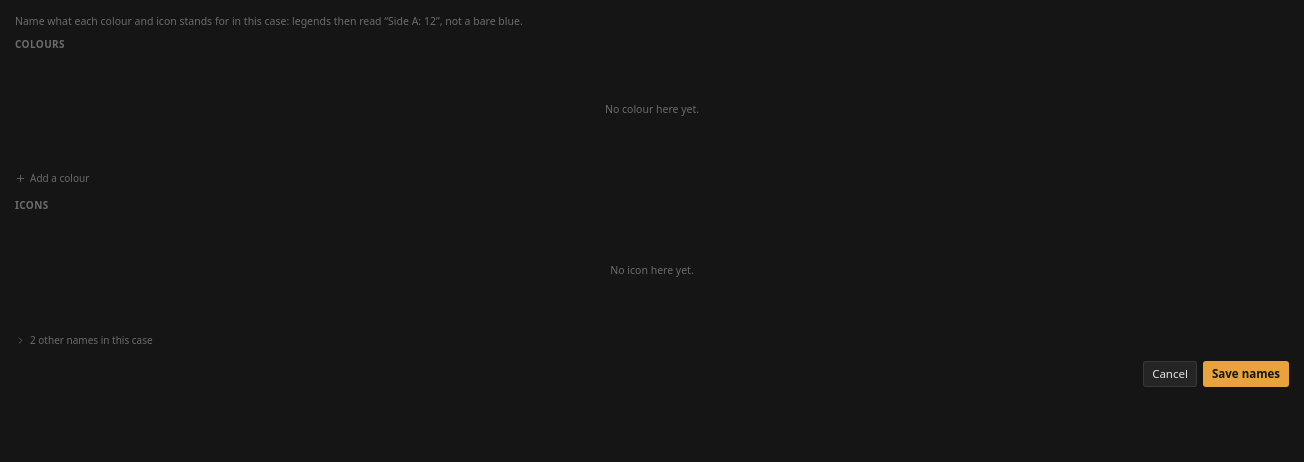
Test: naming the case colours and icons › shows the other names of the case on a press, to rename or clear them
Click the button "2 other names in this case" at (84, 340), box [15, 333, 153, 348]
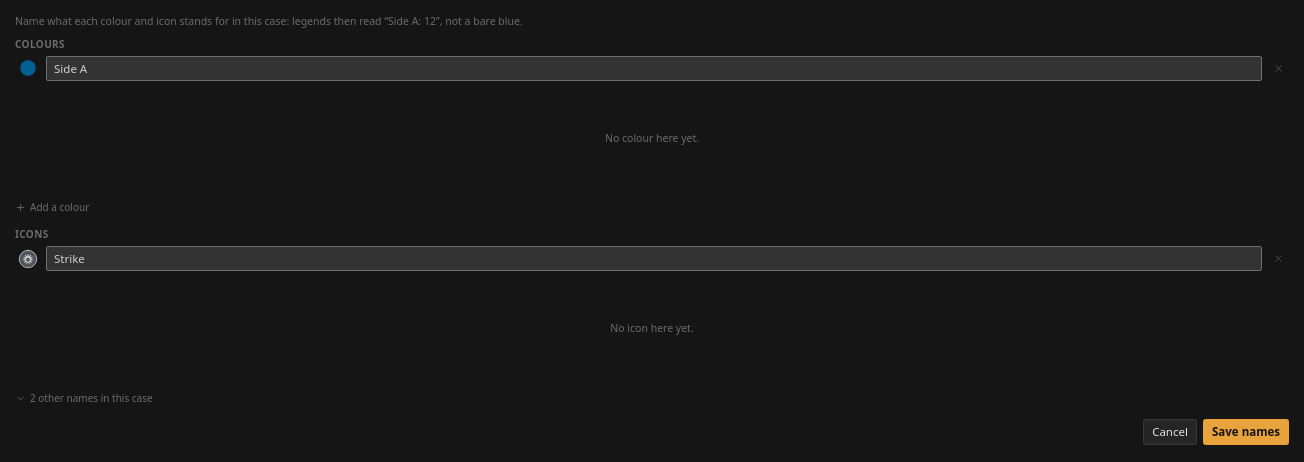
Check: the field with id "0072b2" holds "Side A", box [46, 56, 1262, 81]
Check: the field named "Name of icon Explosion" holds "Strike", box [46, 246, 1262, 271]
